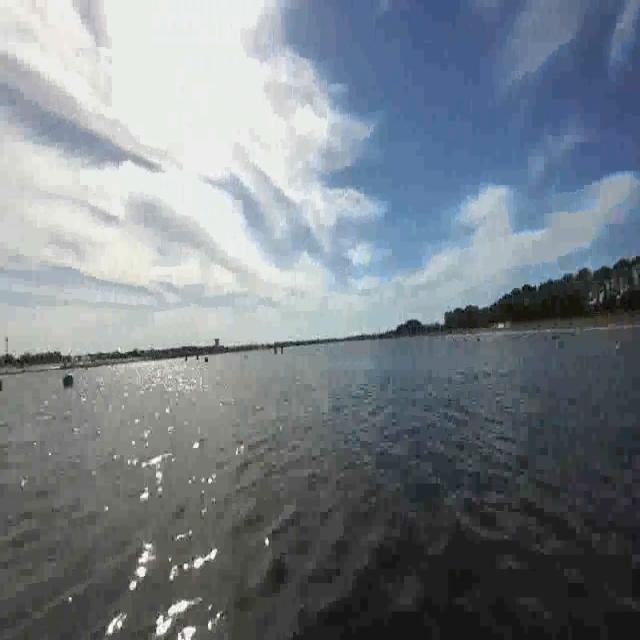blue-buoy: (62, 369, 73, 390)
